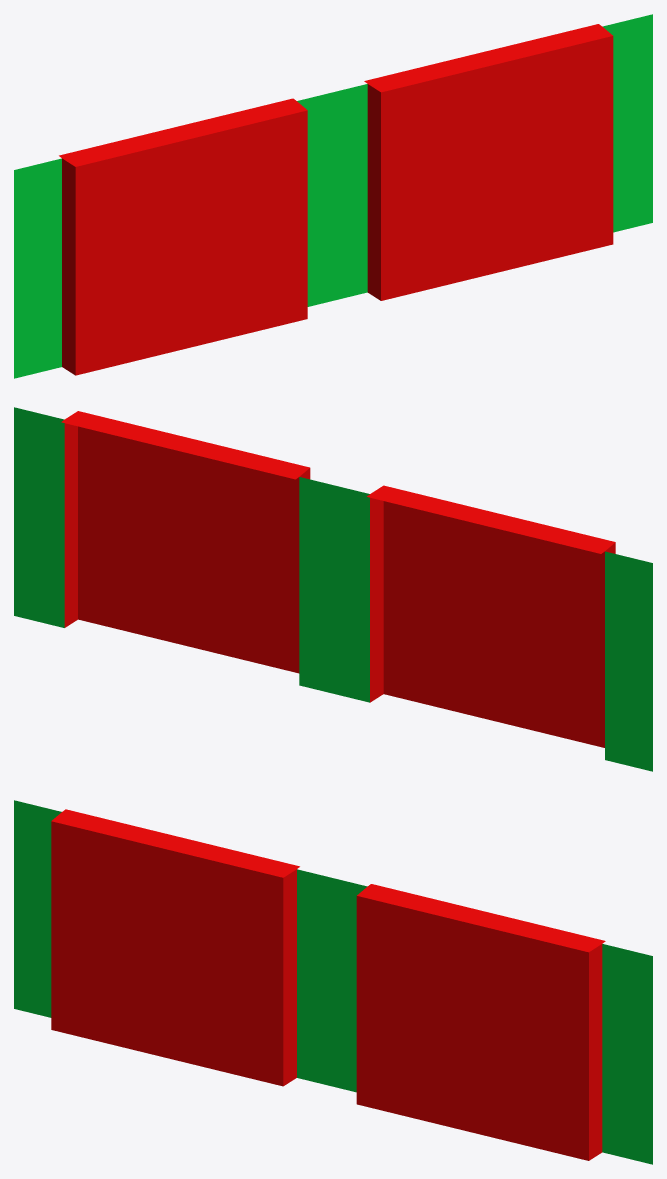
The model's file is WH_Foundation_Painted_Double.FBX.
The picture shows the model from 3 angles, top to bottom: view 1: azimuth 30°, elevation 25°; view 2: azimuth 150°, elevation 25°; view 3: azimuth 330°, elevation 25°; orthographic projection.
Parts seen in each view (by area): view 1: Wall_Foundation_Painted_Double; view 2: Wall_Foundation_Painted_Double; view 3: Wall_Foundation_Painted_Double.
Boxes of the visible parts, x1=… form: Wall_Foundation_Painted_Double: x1=14, y1=14, x2=652, y2=378; Wall_Foundation_Painted_Double: x1=14, y1=407, x2=652, y2=771; Wall_Foundation_Painted_Double: x1=14, y1=800, x2=652, y2=1164.
Bounding box in the file's own units: 500 × 21.56 × 156.
